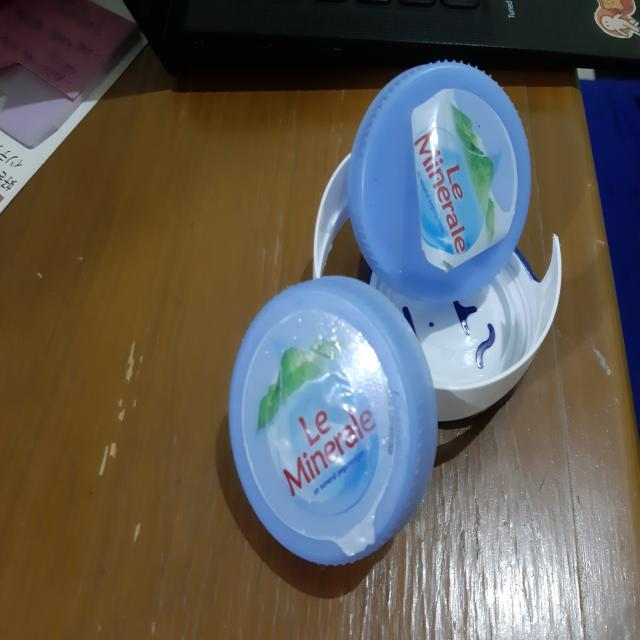TutupGalon: (294, 62, 576, 427), (192, 276, 474, 569)
